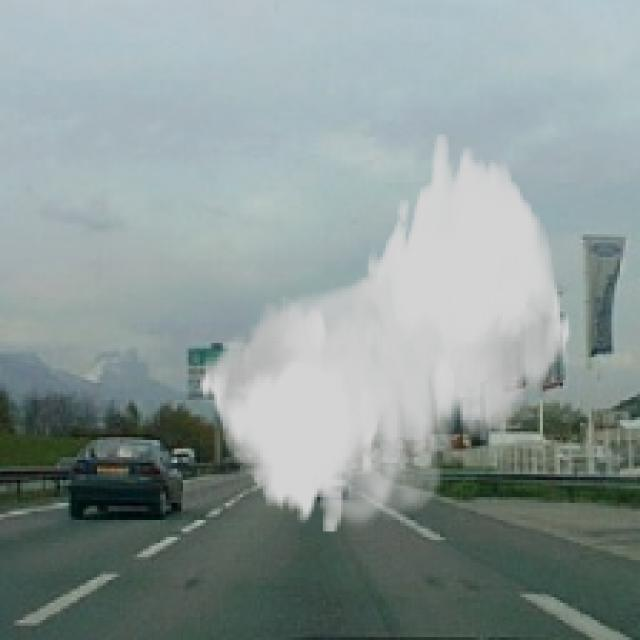smoke: (197, 135, 572, 534)
